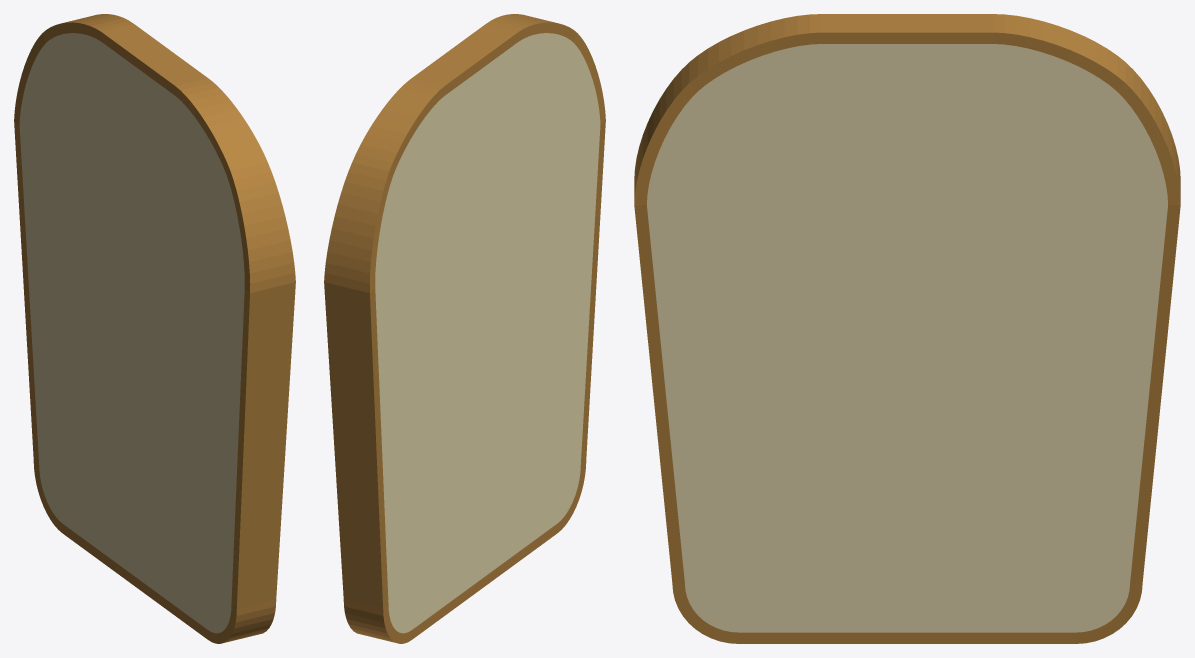
The model's file is Кусок хлеба.fbx.
3 views of the same model, side by side, from view 1: azimuth 30°, elevation 25°; view 2: azimuth 150°, elevation 25°; view 3: azimuth 270°, elevation 25° (orthographic). The views are drawn at different scales.
Visible parts, largest first — view 1: Cube.006; view 2: Cube.006; view 3: Cube.006.
Boxes of the visible parts, x1,y1,x2,y2 form: Cube.006: (14,14,295,643); Cube.006: (324,14,605,643); Cube.006: (634,14,1180,643).
Size of the model in its own units: 4.19 by 46.04 by 37.4.
